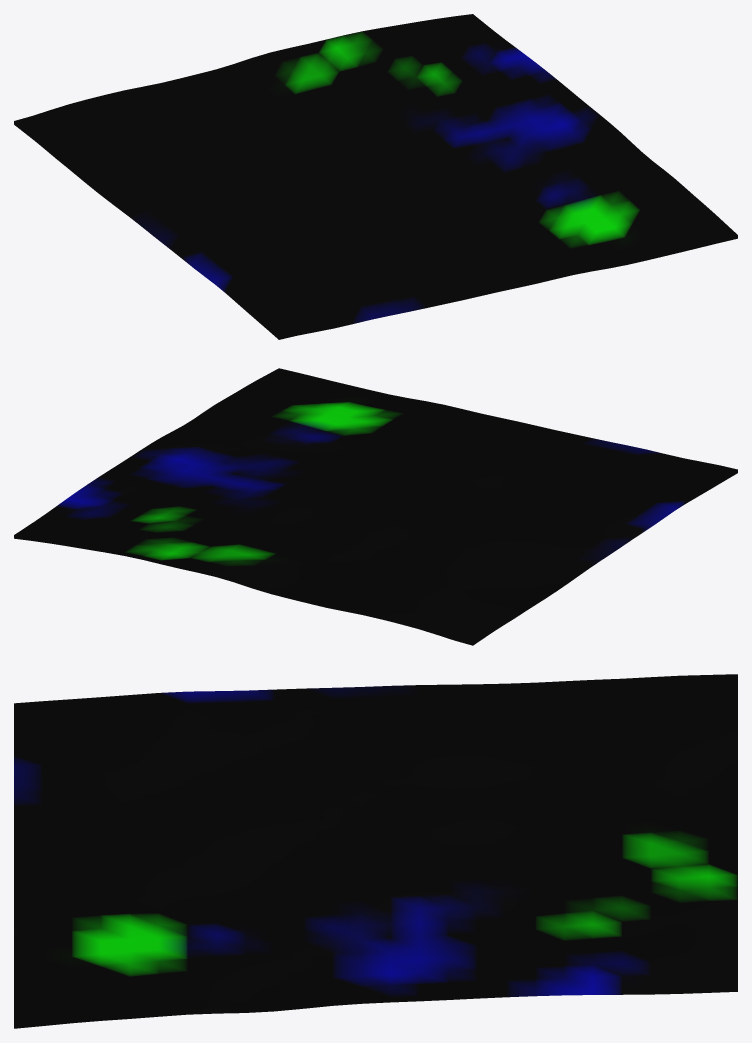
The model's file is coast_9_5.glb.
3 views of the same model, one above another, from view 1: azimuth 30°, elevation 25°; view 2: azimuth 150°, elevation 25°; view 3: azimuth 270°, elevation 25° (orthographic). The views are drawn at different scales.
Visible parts, largest first — view 1: terrain; view 2: terrain; view 3: terrain.
Boxes of the visible parts, x1,y1,x2,y2 form: terrain: [14, 14, 737, 339]; terrain: [14, 368, 737, 645]; terrain: [14, 674, 737, 1028].
Bounding box in the file's own units: 200 × 17.34 × 200.
